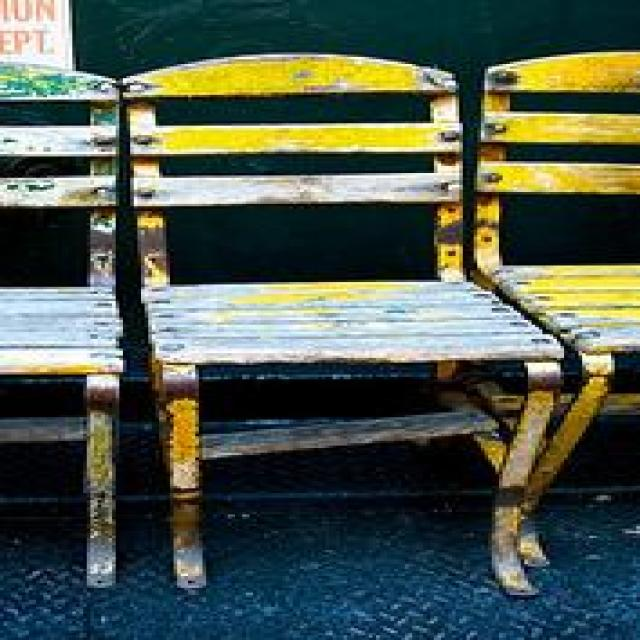chair: (116, 50, 564, 597), (466, 48, 640, 564)
